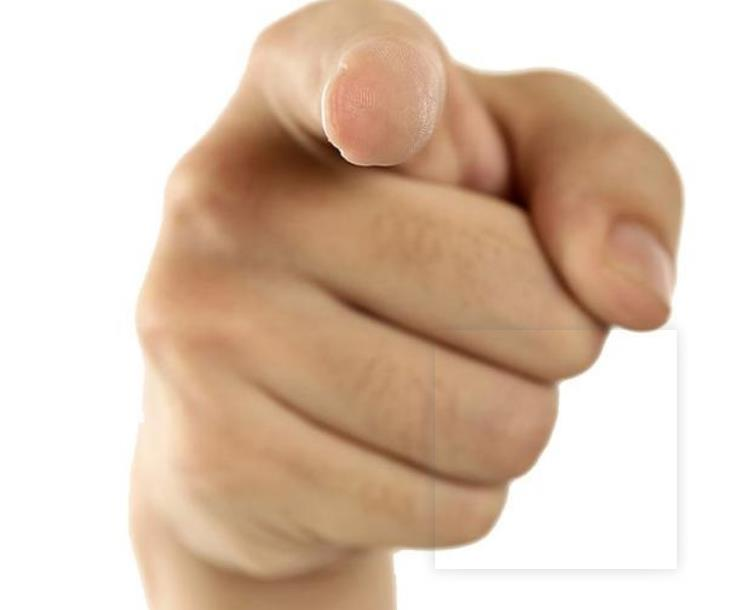up: (123, 1, 697, 567)
